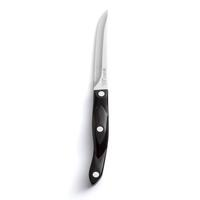knife: (85, 7, 116, 188)
